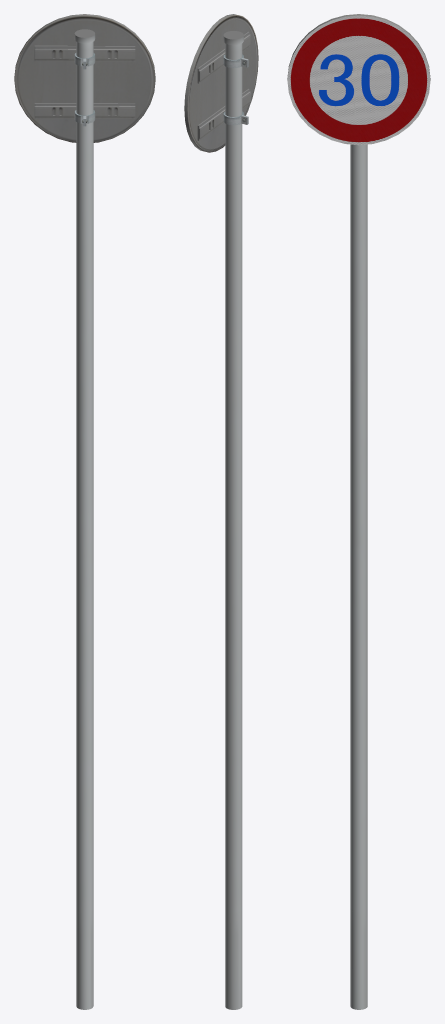
The model's file is Preset_Sign323sp30.fbx.
The picture shows the model from 3 angles, left to right: view 1: azimuth 90°, elevation 25°; view 2: azimuth 150°, elevation 25°; view 3: azimuth 270°, elevation 25°; orthographic projection.
Visible parts, largest first — view 1: Sign_PoleV, Sign_Backface, Sign_BackArm; view 2: Sign_PoleV, Sign_Backface, Sign_BackArm; view 3: Sign_PoleV, Sign323sp30.
Part boxes in pixels (<box>): Sign_PoleV: <box>74,29,95,1009</box>; Sign_Backface: <box>14,14,155,142</box>; Sign_BackArm: <box>34,45,135,126</box>; Sign_PoleV: <box>223,31,243,1009</box>; Sign_Backface: <box>184,14,258,152</box>; Sign_BackArm: <box>197,31,250,140</box>; Sign_PoleV: <box>350,144,367,1009</box>; Sign323sp30: <box>287,15,430,145</box>.
Size of the model in its own units: 9.26 by 39.98 by 307.
Materials: 4 (4 with a texture image).
